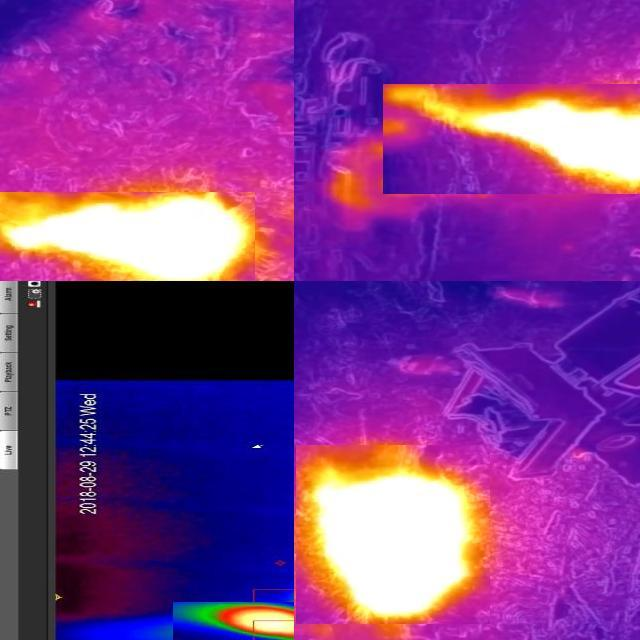fire: (297, 445, 491, 624), (384, 84, 640, 194), (1, 192, 256, 282), (174, 602, 295, 640)
